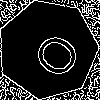O: (23, 24, 84, 82)
